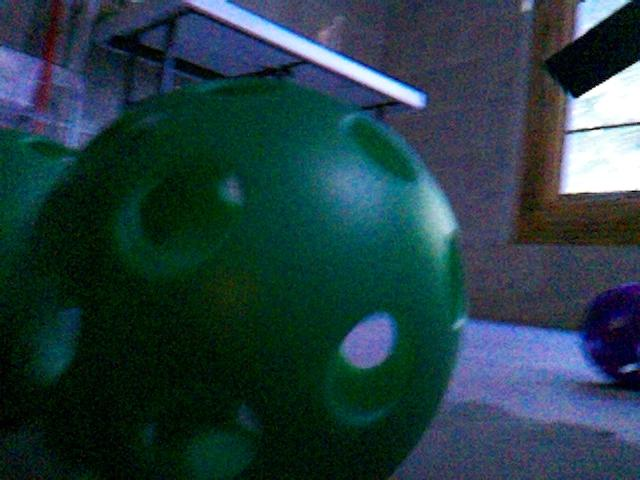Green: (0, 75, 462, 480)
Purple: (583, 284, 639, 373)
